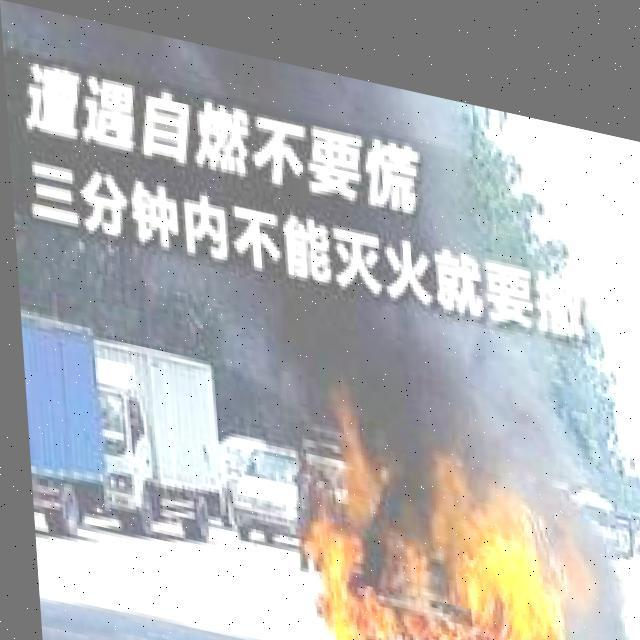Fire: (285, 360, 609, 639)
